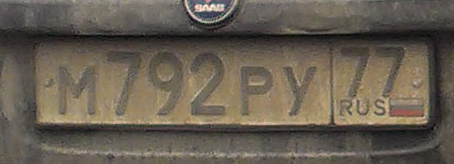character: (186, 47, 228, 119), (53, 60, 103, 119), (147, 48, 185, 121), (106, 48, 144, 118), (279, 60, 319, 118), (239, 61, 275, 118), (339, 44, 372, 104), (374, 45, 406, 100)
